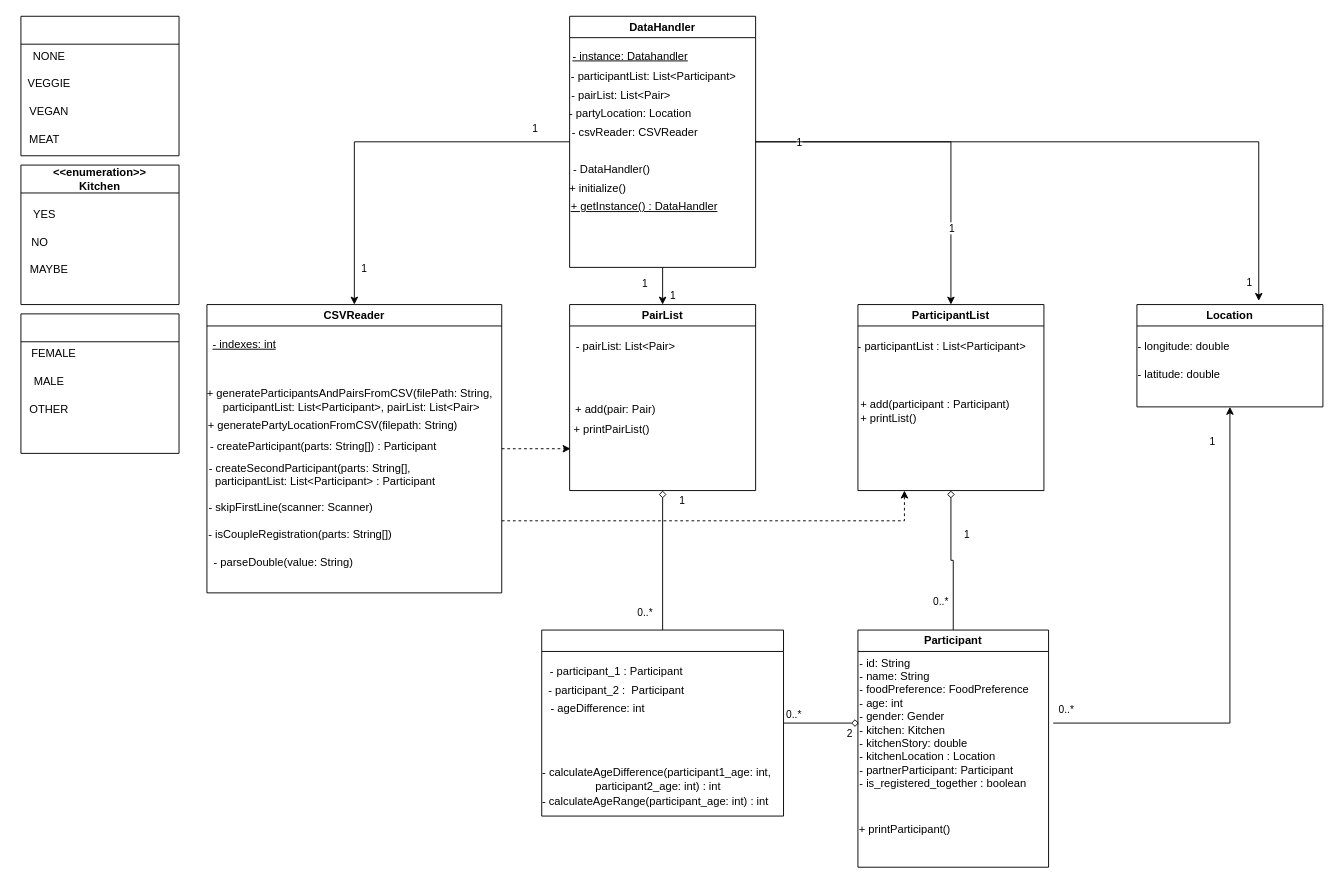
Image size: 1339x884. Some labels were removed from this diagram. The box of each missing label's shape, as (x1, y1, x2, y2) in pixels:
<<enumeration>> FoodPreference: (20, 15, 179, 156)
<<enumeration>> Gender: (20, 313, 179, 453)
Pair: (541, 629, 784, 816)
